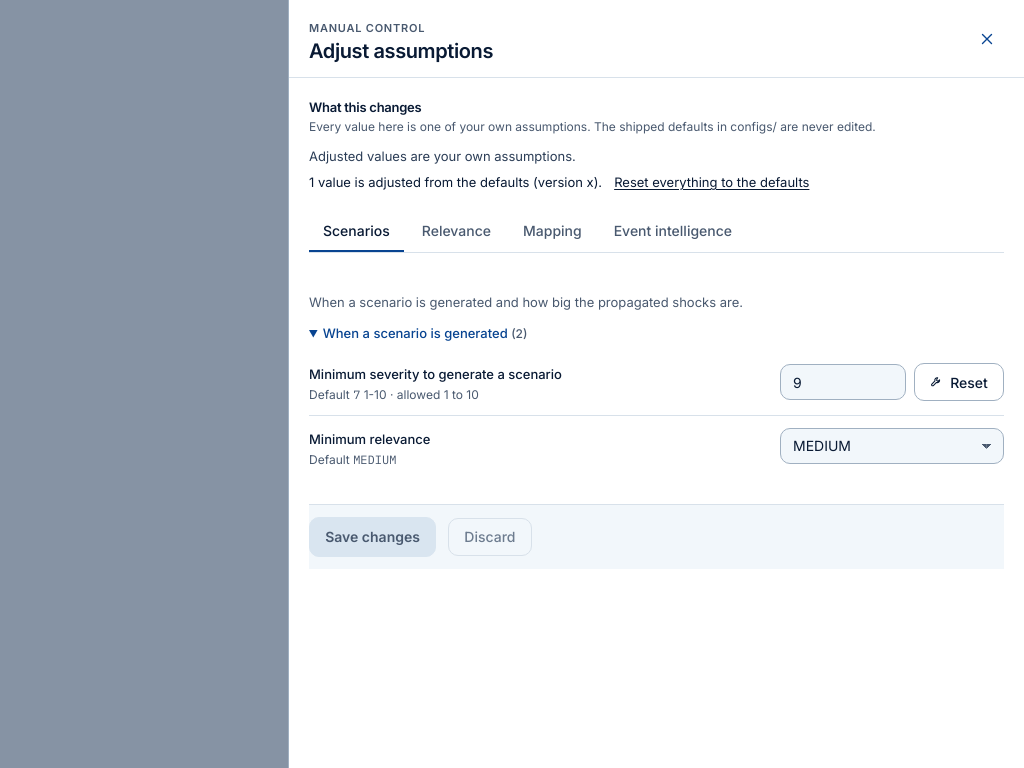
Test: Adjust drawer › discards an unsaved change and resets an adjusted one
The width and height of the screenshot is (1024, 768).
Expected: the number field labelled "Minimum severity to generate a scenario" holds "9", x1=780 y1=364 x2=906 y2=400
Click the button with aria-label "reset minimum severity to generate a scenario to its default" at (959, 382), box x1=914 y1=363 x2=1004 y2=401
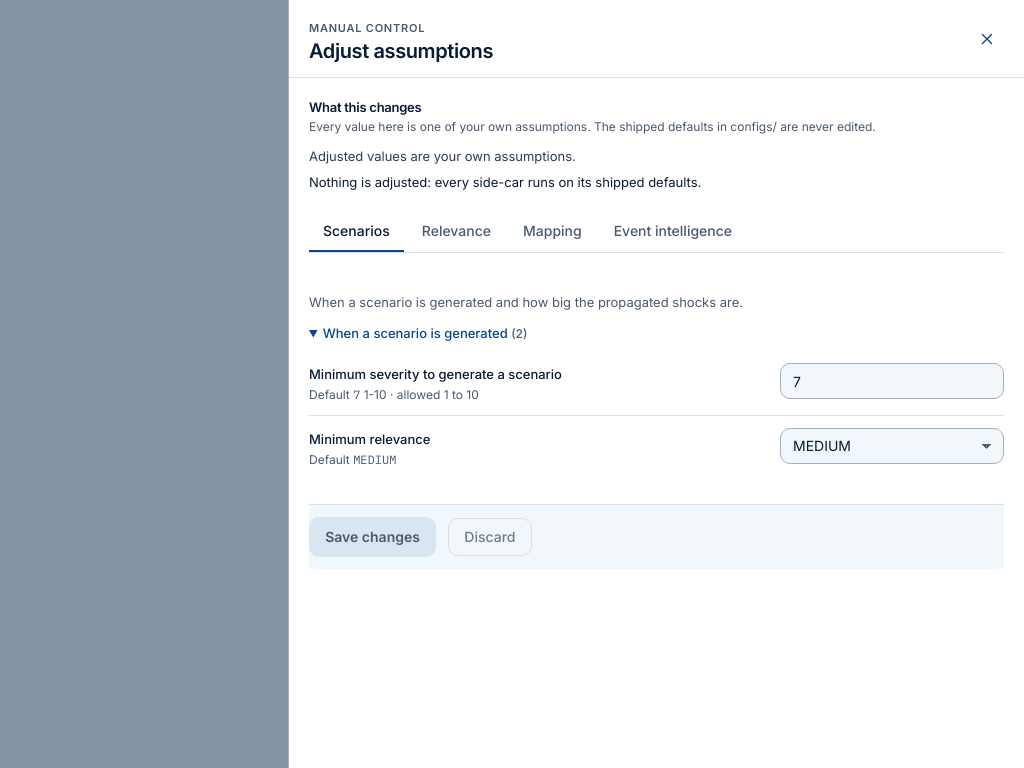
Type "1" into the number field labelled "Minimum severity to generate a scenario" at (892, 381), box x1=780 y1=363 x2=1004 y2=399
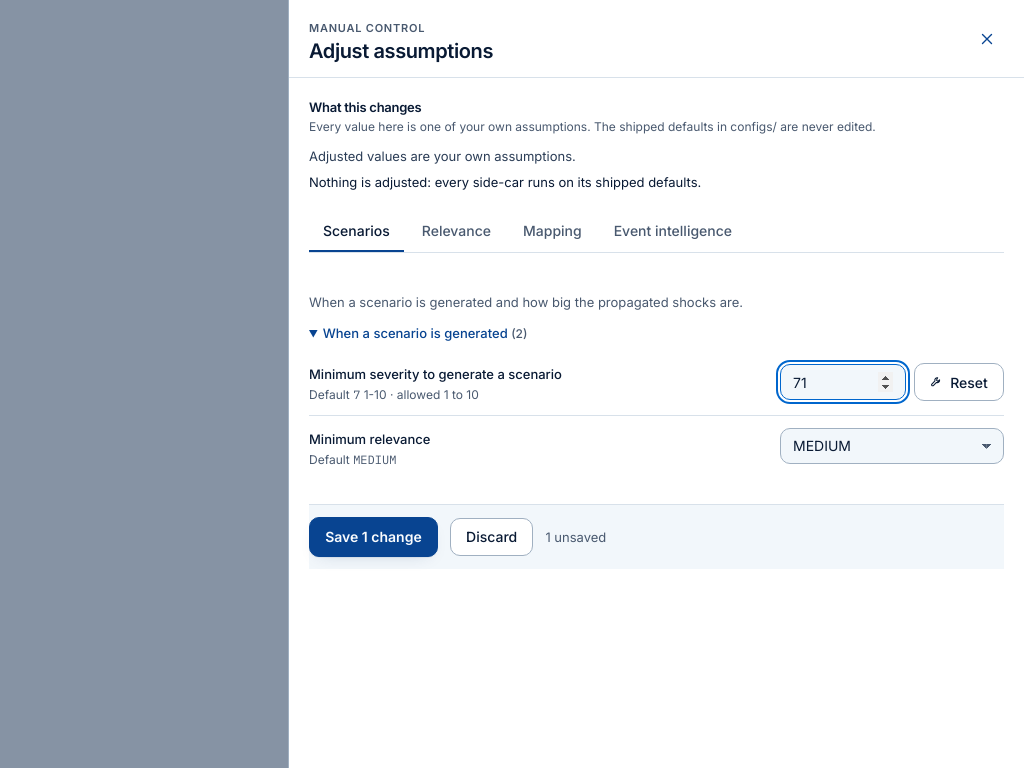
Click the button "Discard" at (492, 537), box x1=450 y1=518 x2=533 y2=556
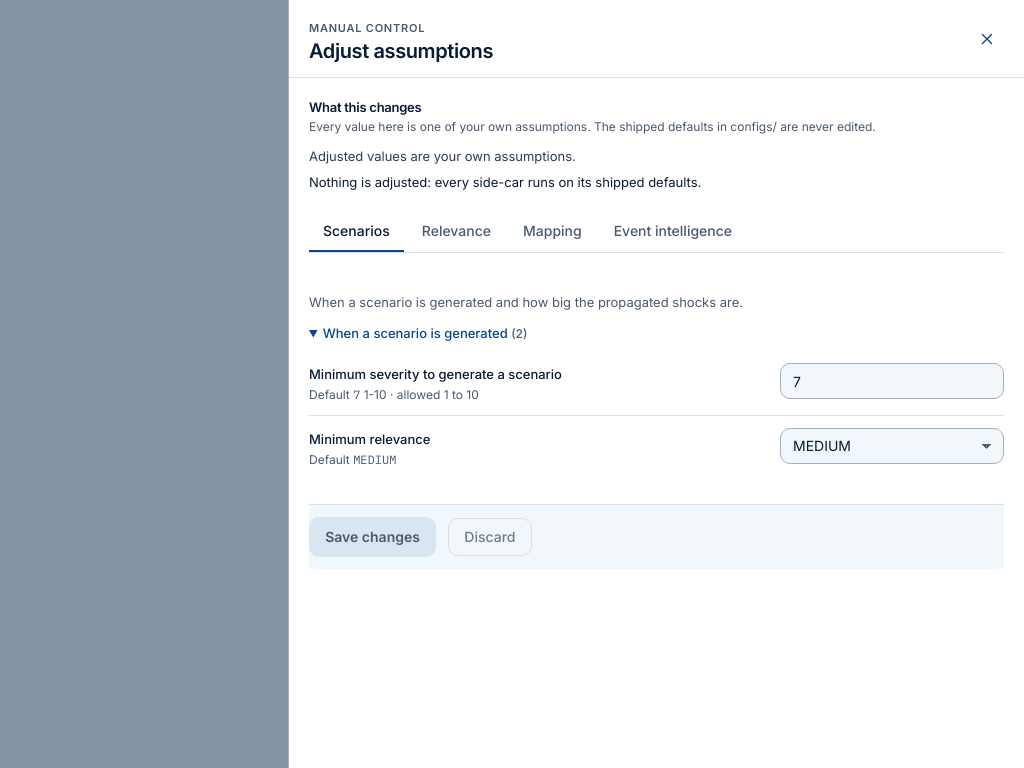
Now the button "Save changes" is disabled, box x1=309 y1=517 x2=436 y2=557
